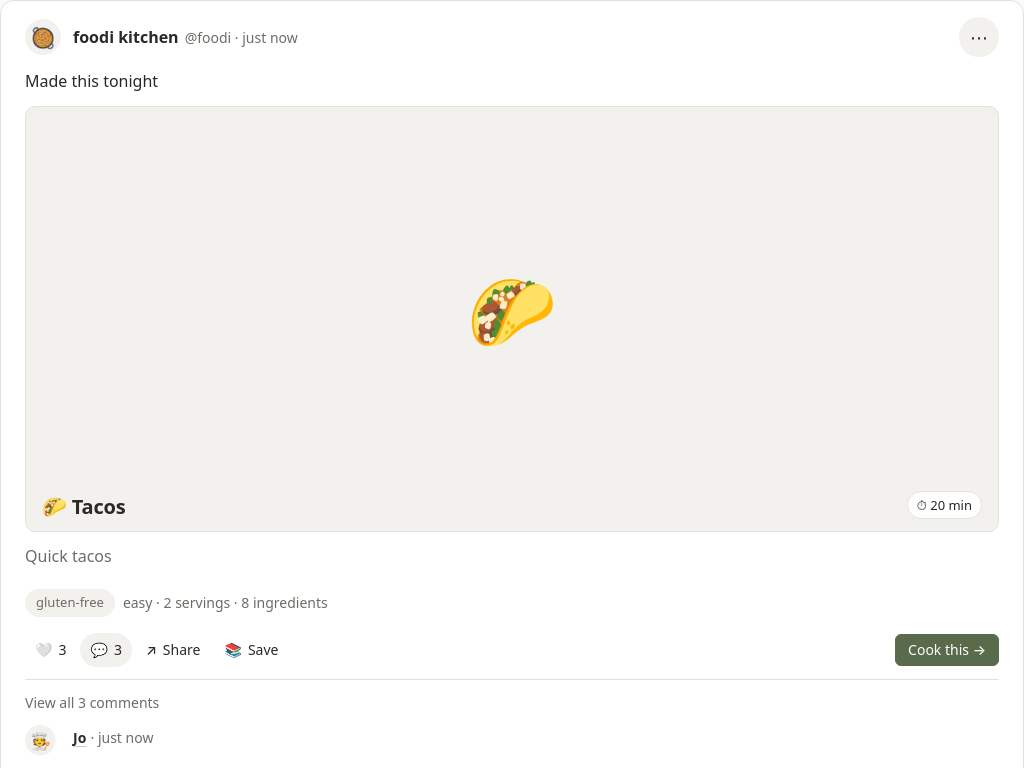
Test case: PostCard › shows the newest comments inline, expands to the whole thread, and posts a new one on Enter
Expected: the text "First" is not shown
Click the button "View all 3 comments" at (92, 703), box [25,692,159,713]
(page scrolled)
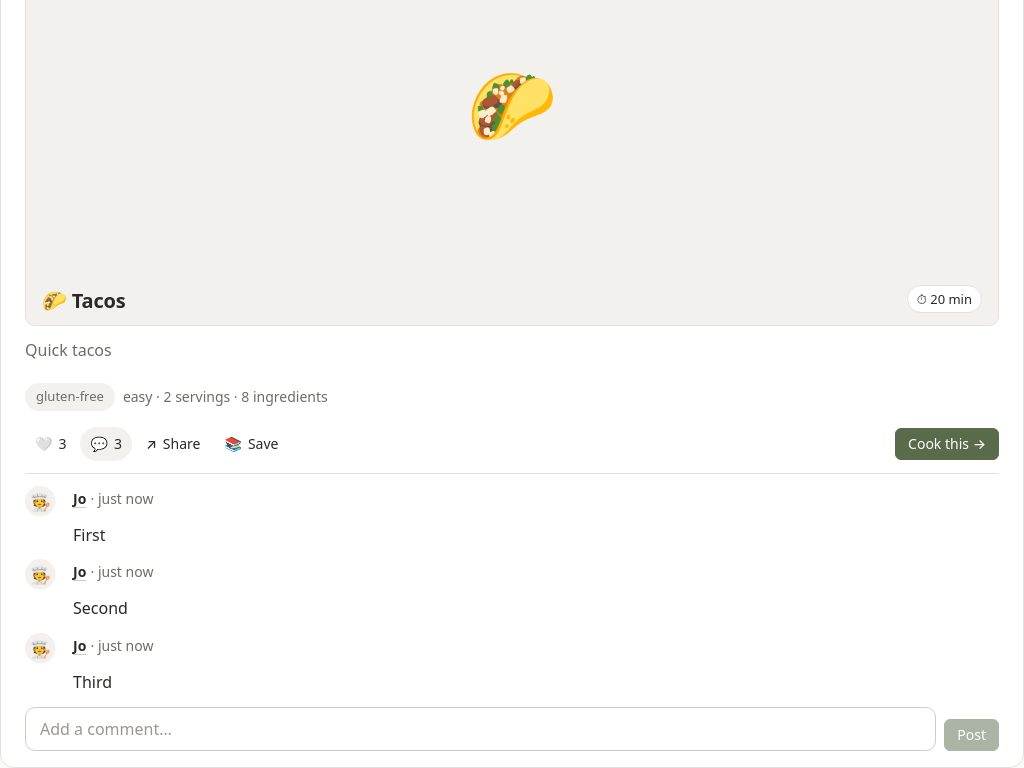
Expected: the text "First" is shown, [73,524,106,546]
Expected: the button "View all" is gone
Type "Looks great" into the text box labelled "Add a comment" at (481, 728), box [25,706,936,750]
Then press Enter
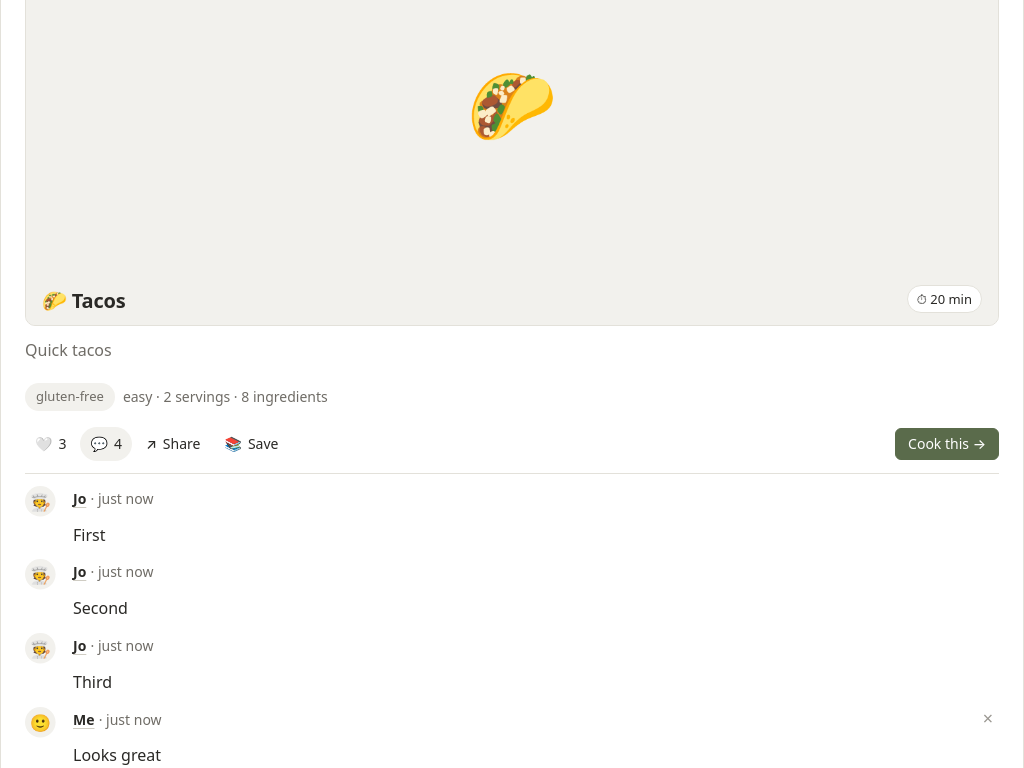
Expected: the text "Looks great" is shown, [73,744,161,766]
Expected: the button named "4 comments" is shown, [80,427,132,461]
Expected: the number of buttons named "Delete comment" is 1, [977,706,999,728]
